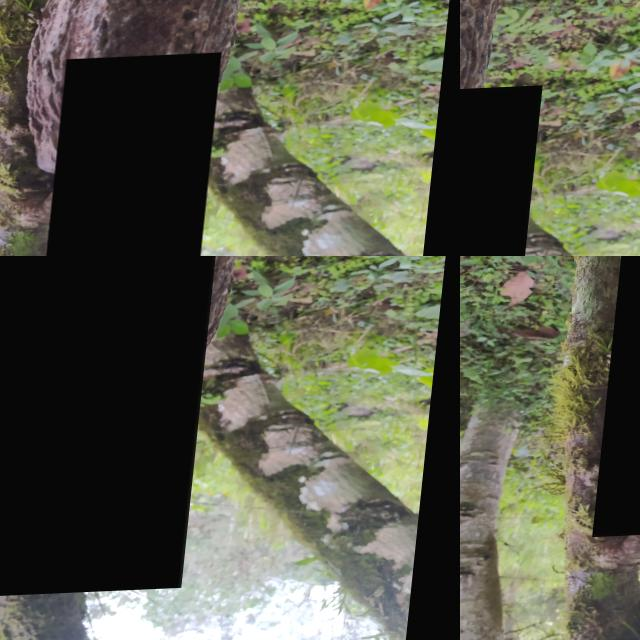Fitoftora: (55, 56, 227, 256)
Sana: (0, 256, 226, 602), (460, 89, 547, 256)
